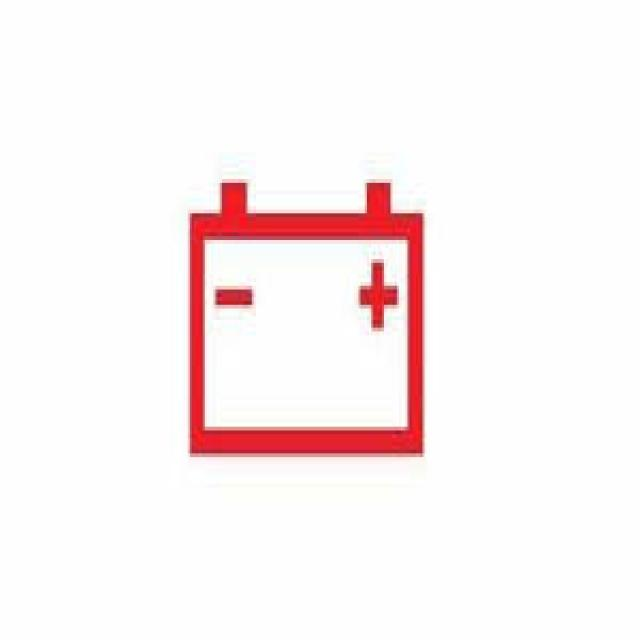kontrolka: (176, 170, 444, 480)
